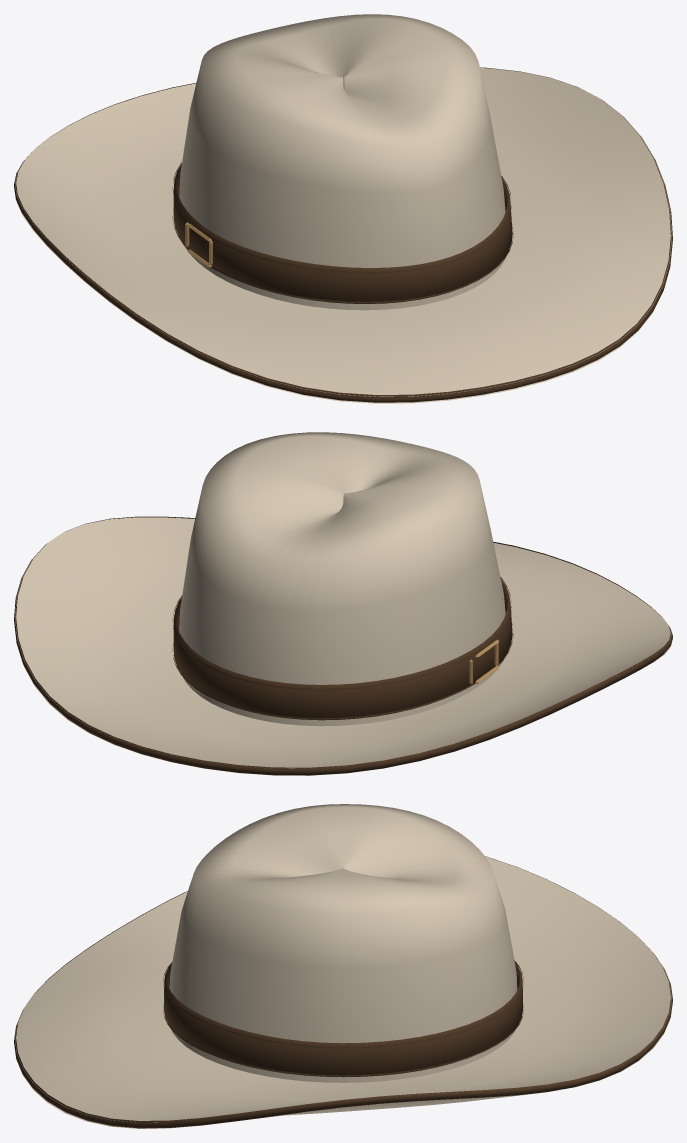
Rendered from greenhorn.glb.
The picture shows the model from 3 angles, top to bottom: view 1: azimuth 30°, elevation 25°; view 2: azimuth 150°, elevation 25°; view 3: azimuth 270°, elevation 25°; orthographic projection. The views are drawn at different scales.
Parts seen in each view (by area): view 1: Felt upper brim, Felt crown, Fitted hatband, Bound brim edge, Felt under brim, Sewn band border.001, Sewn band border; view 2: Felt crown, Felt upper brim, Fitted hatband, Bound brim edge, Sewn band border.001, Sewn band border; view 3: Felt crown, Felt upper brim, Fitted hatband, Bound brim edge, Felt under brim, Sewn band border.001, Sewn band border.
Part boxes in pixels (x1=…): Felt upper brim: x1=15, y1=68, x2=671, y2=396; Felt crown: x1=179, y1=14, x2=505, y2=310; Fitted hatband: x1=173, y1=164, x2=512, y2=303; Bound brim edge: x1=14, y1=67, x2=672, y2=402; Felt under brim: x1=16, y1=202, x2=662, y2=403; Sewn band border.001: x1=172, y1=162, x2=511, y2=273; Sewn band border: x1=172, y1=209, x2=513, y2=303; Felt crown: x1=179, y1=432, x2=505, y2=726; Felt upper brim: x1=15, y1=517, x2=671, y2=768; Fitted hatband: x1=173, y1=579, x2=512, y2=720; Bound brim edge: x1=14, y1=516, x2=672, y2=775; Sewn band border.001: x1=172, y1=577, x2=511, y2=690; Sewn band border: x1=172, y1=623, x2=513, y2=719; Felt crown: x1=169, y1=804, x2=517, y2=1082; Felt upper brim: x1=15, y1=856, x2=671, y2=1122; Fitted hatband: x1=164, y1=962, x2=522, y2=1077; Bound brim edge: x1=14, y1=856, x2=672, y2=1128; Felt under brim: x1=23, y1=1020, x2=669, y2=1128; Sewn band border.001: x1=163, y1=960, x2=523, y2=1048; Sewn band border: x1=163, y1=1004, x2=523, y2=1076.
Bounding box in the file's own units: 0.3471 × 0.1224 × 0.369.
